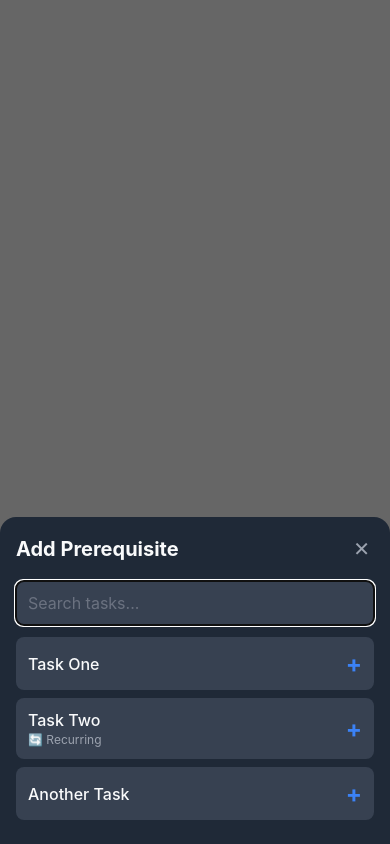
Test: TaskSearchModal › filters tasks by search query
Expected: the text "Task One" is shown, [28, 654, 100, 674]
Type "Another" into the field with placeholder "Search tasks..." at (195, 603), box [16, 581, 374, 625]
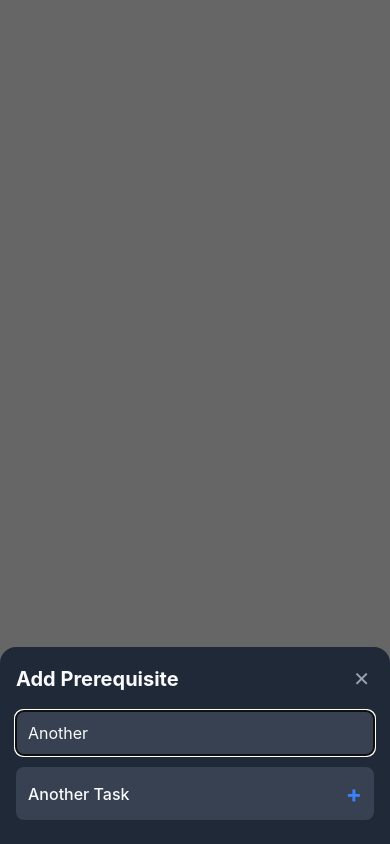
Expected: the text "Another Task" is shown, [28, 784, 130, 804]
Now the button "Task One" is gone
